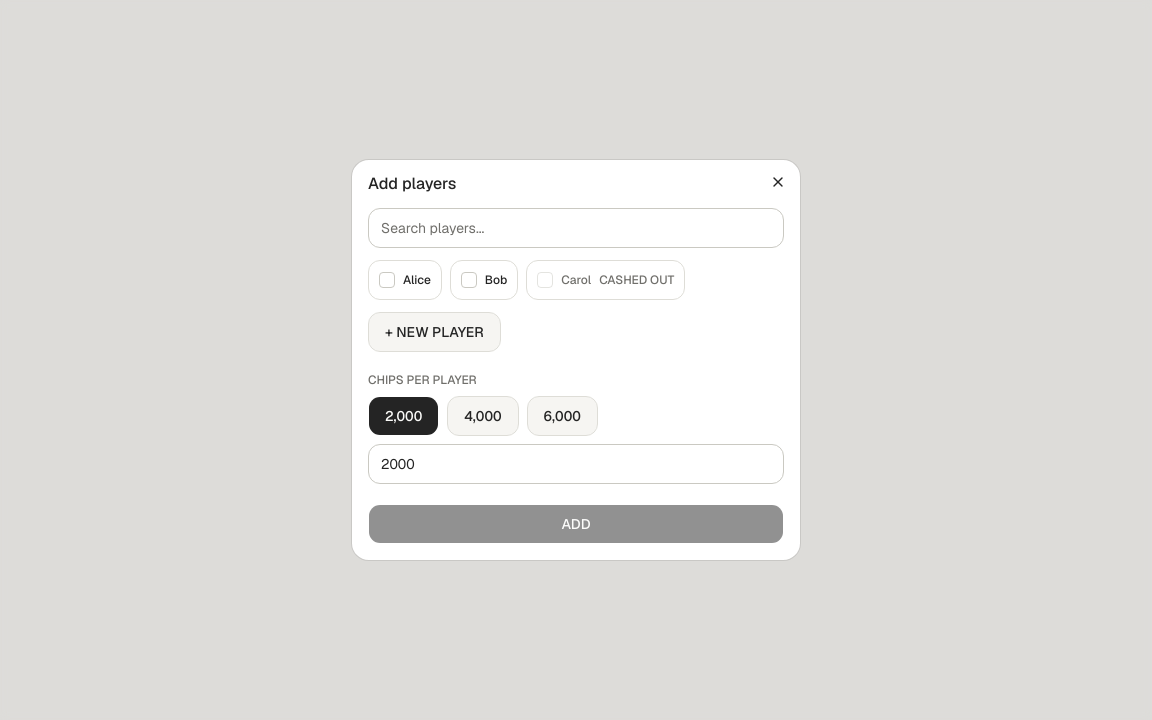
Test: player picker through real React and Radix › prefills creation from search without writing automatically
Type " Dave " into the search field at (576, 228), box top-left (368, 208), bottom-right (784, 248)
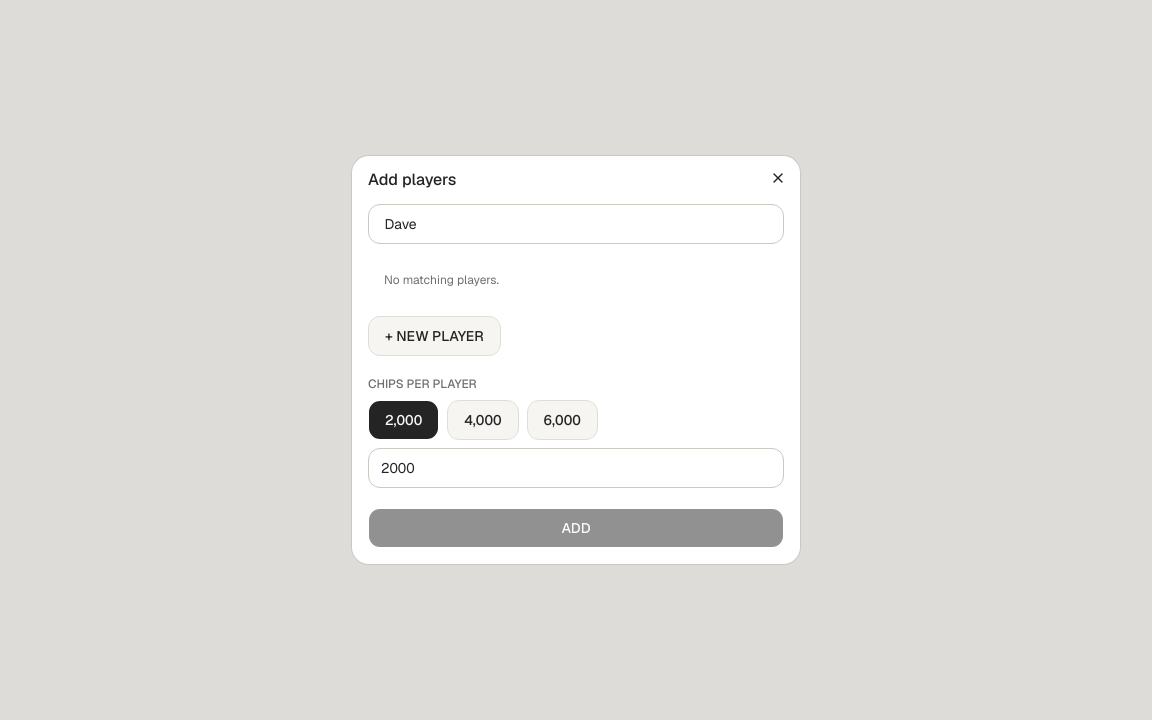
Check: the text "No matching players." is shown, box top-left (384, 272), bottom-right (499, 288)
Click the button "+ NEW PLAYER" at (434, 336), box top-left (368, 316), bottom-right (501, 356)
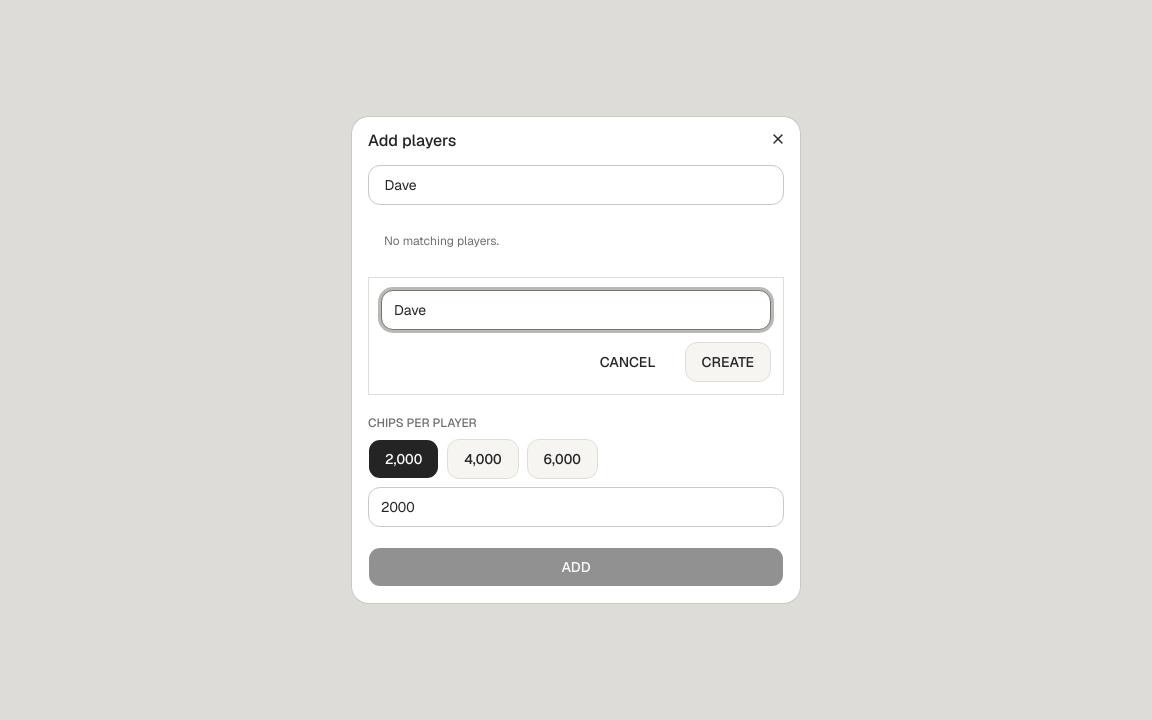
Check: the field named "New player name" holds "Dave", box top-left (381, 290), bottom-right (771, 330)
